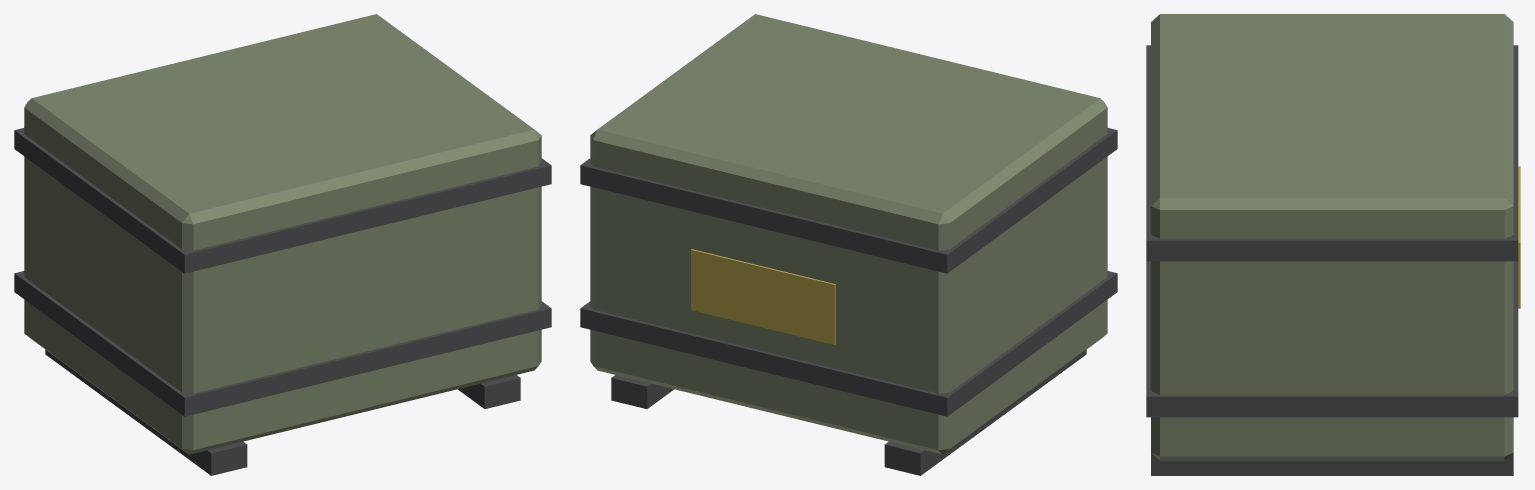
The model's file is storage_crate.glb.
3 renders of one model, left to right at view 1: azimuth 30°, elevation 25°; view 2: azimuth 150°, elevation 25°; view 3: azimuth 270°, elevation 25°, orthographic. The views are drawn at different scales.
Parts seen in each view (by area): view 1: storage_crate; view 2: storage_crate; view 3: storage_crate.
Part boxes in pixels (x1=…): storage_crate: x1=14, y1=14, x2=551, y2=475; storage_crate: x1=580, y1=14, x2=1117, y2=475; storage_crate: x1=1146, y1=14, x2=1520, y2=475.
Size of the model in its own units: 1.02 by 0.7 by 0.825.
